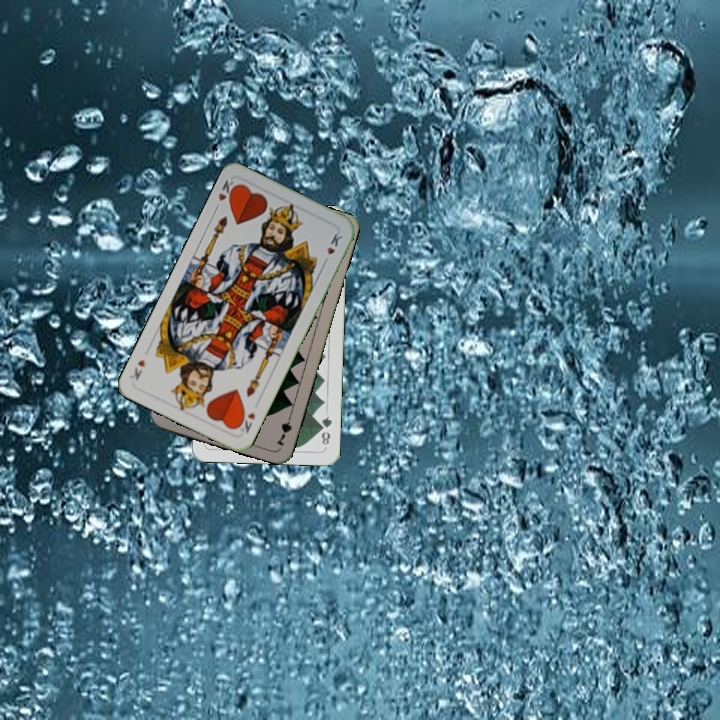G7: (272, 409, 295, 448)
G8: (317, 412, 335, 447)
HK: (210, 175, 240, 213), (233, 408, 258, 436)
